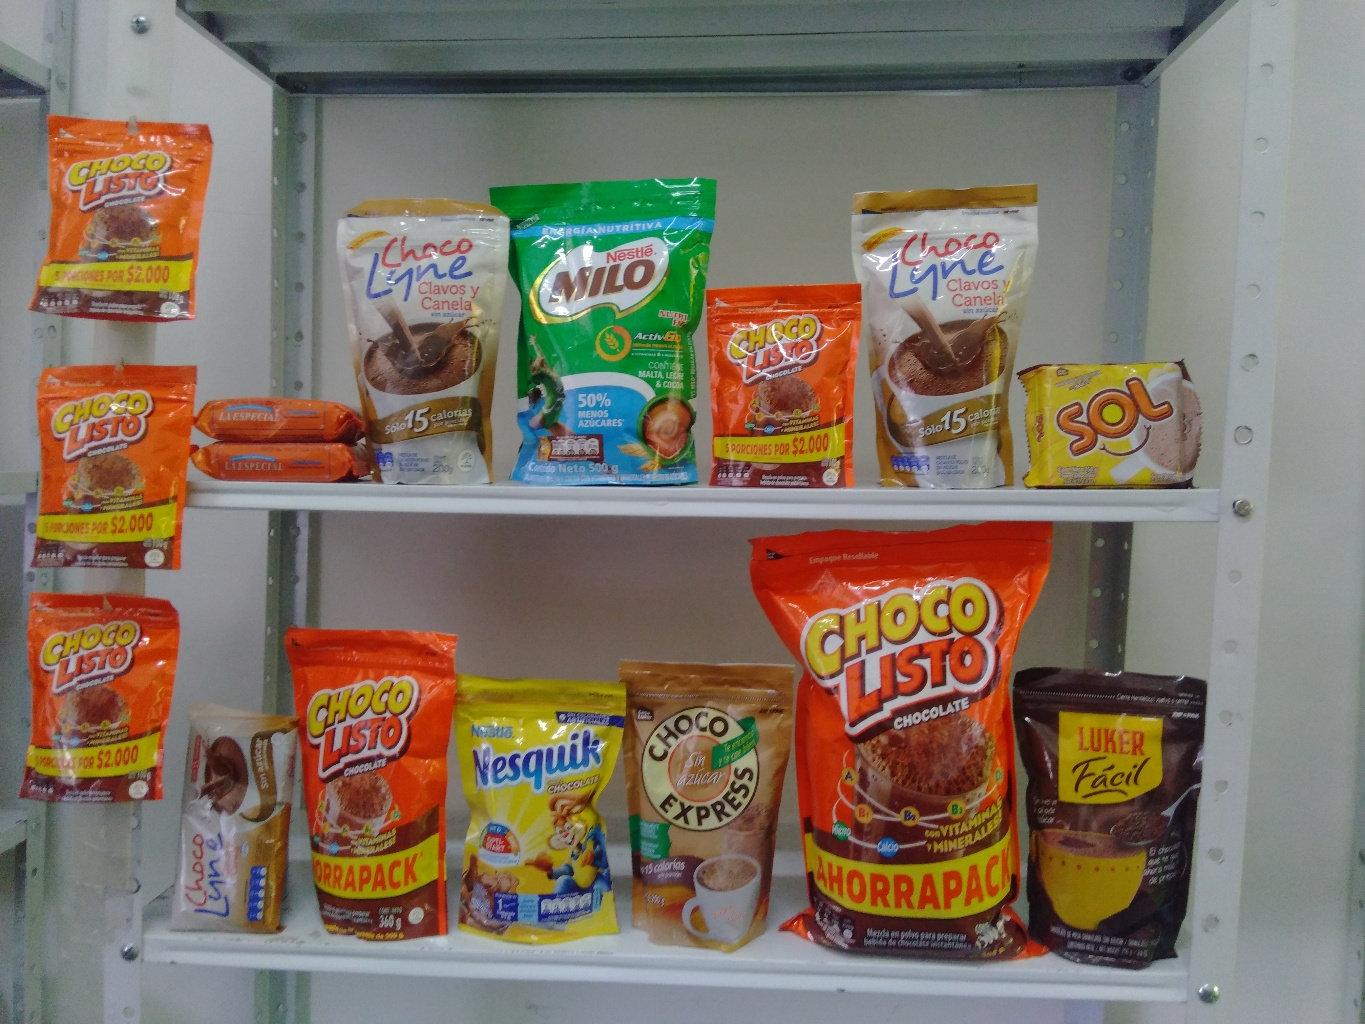COL0170103DYP1,500: (743, 515, 1065, 970)
COL0170103DYP36000: (276, 628, 482, 954)
COL0170205DYP50000: (496, 175, 724, 495)
COL0170303DYP20000: (454, 675, 631, 961)
